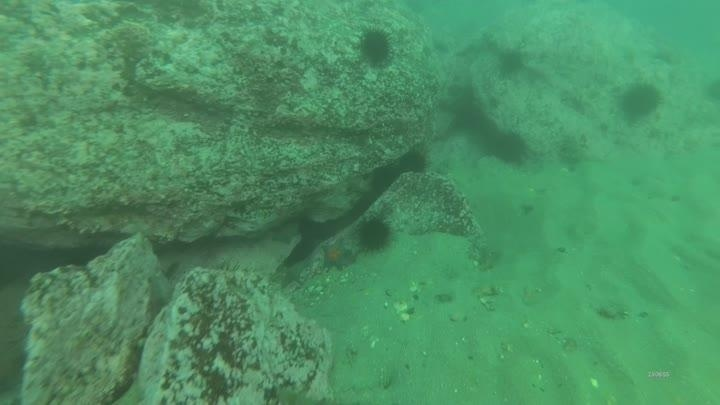echinus: (617, 80, 663, 122), (487, 128, 531, 167), (356, 25, 395, 68), (354, 214, 395, 254), (395, 146, 430, 177), (495, 47, 527, 78)
starfish: (316, 237, 357, 273), (145, 269, 176, 312)
